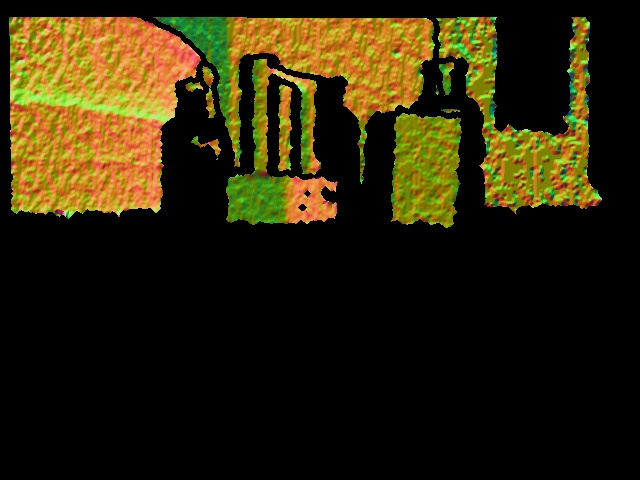station: (225, 55, 341, 226)
